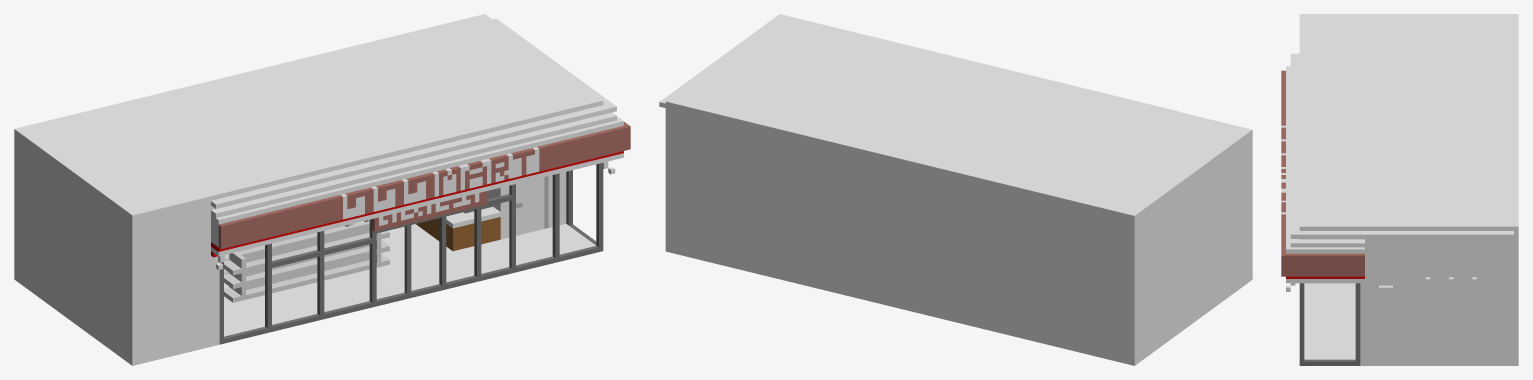
Rendered from Conveni.fbx.
3 renders of one model, left to right at view 1: azimuth 30°, elevation 25°; view 2: azimuth 150°, elevation 25°; view 3: azimuth 270°, elevation 25°, orthographic. The views are drawn at different scales.
Visible parts, largest first — view 1: conveniobj; view 2: conveniobj; view 3: conveniobj.
Part boxes in pixels (box(x1,y1,x2,y2)): conveniobj: box(14, 14, 630, 365); conveniobj: box(659, 14, 1252, 365); conveniobj: box(1281, 14, 1518, 365).
Size of the model in its own units: 11200 by 3300 by 5100.
1 material, 1 textured.
